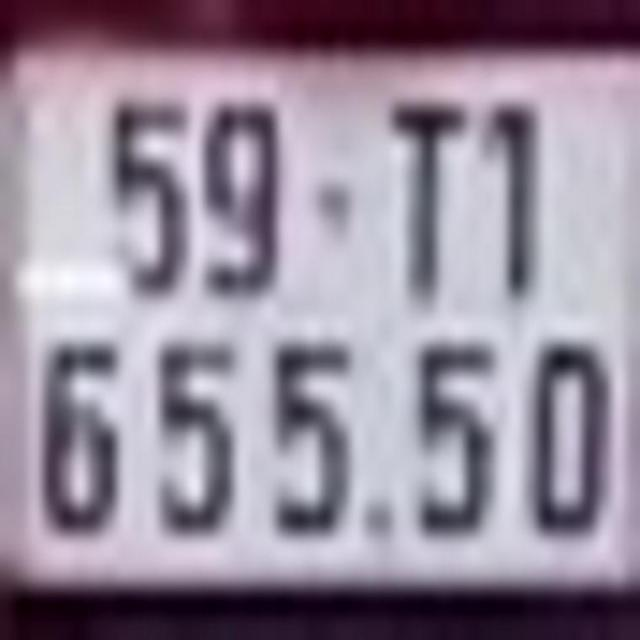0: (531, 338, 608, 533)
1: (487, 89, 538, 298)
5: (107, 96, 193, 298), (417, 335, 498, 542), (273, 335, 353, 540), (154, 332, 233, 532)
6: (41, 331, 122, 535)
9: (198, 98, 285, 300)
T: (384, 97, 470, 306)
